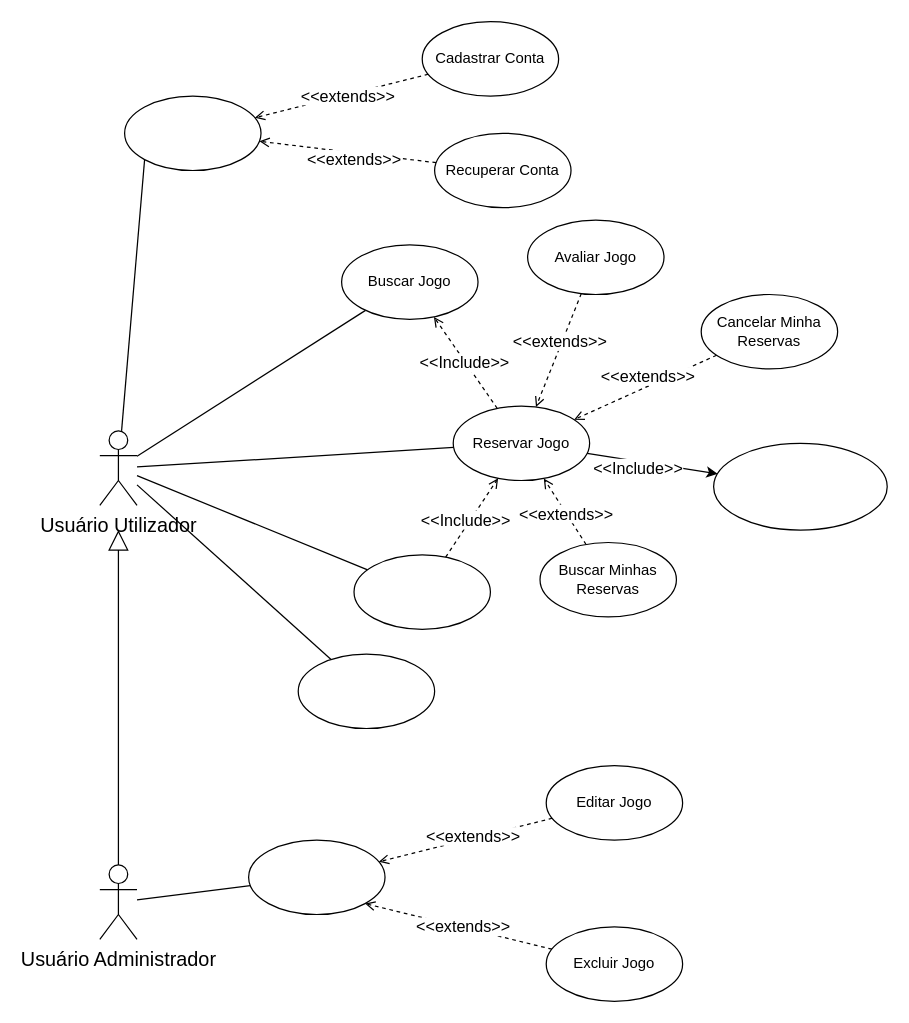
Image size: 909x1023. Some labels were removed from this diagram. Each missing label, with the centre of its shape:
Cadastrar Jogo: the point at 316,876
Confirmar Reserva: the point at 421,591
Fazer Login: the point at 192,132
Verifica se o Horário e Jogo estão disponíveis: the point at 799,486
Visualizar sugestões de Jogos: the point at 366,690
